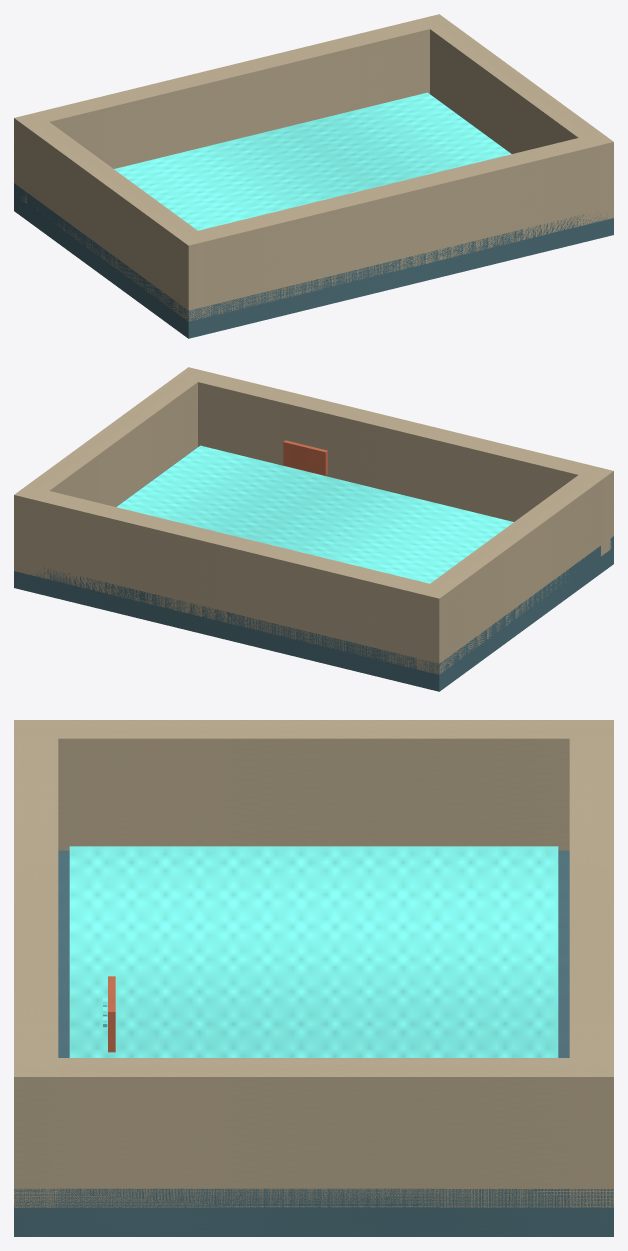
The model's file is atlas100-s042-a01.glb.
The picture shows the model from 3 angles, top to bottom: view 1: azimuth 30°, elevation 25°; view 2: azimuth 150°, elevation 25°; view 3: azimuth 270°, elevation 25°; orthographic projection. The views are drawn at different scales.
Parts seen in each view (by area): view 1: atlas100-s042-a01:part-005, atlas100-s042-a01:part-004, atlas100-s042-a01:part-001, atlas100-s042-a01:part-002, atlas100-s042-a01:part-000, atlas100-s042-a01:part-003; view 2: atlas100-s042-a01:part-004, atlas100-s042-a01:part-005, atlas100-s042-a01:part-001, atlas100-s042-a01:part-002, atlas100-s042-a01:part-000, atlas100-s042-a01:part-003, atlas100-s042-a01:part-006; view 3: atlas100-s042-a01:part-001, atlas100-s042-a01:part-003, atlas100-s042-a01:part-002, atlas100-s042-a01:part-000, atlas100-s042-a01:part-004, atlas100-s042-a01:part-005.
Part boxes in pixels (x1,y1,x2,y2): atlas100-s042-a01:part-005: [175, 132, 613, 320]; atlas100-s042-a01:part-004: [14, 14, 450, 203]; atlas100-s042-a01:part-001: [114, 92, 511, 230]; atlas100-s042-a01:part-002: [14, 112, 210, 321]; atlas100-s042-a01:part-000: [14, 94, 613, 338]; atlas100-s042-a01:part-003: [418, 14, 613, 220]; atlas100-s042-a01:part-004: [14, 485, 452, 673]; atlas100-s042-a01:part-005: [176, 367, 613, 556]; atlas100-s042-a01:part-001: [116, 445, 513, 583]; atlas100-s042-a01:part-002: [417, 465, 613, 674]; atlas100-s042-a01:part-000: [14, 447, 613, 691]; atlas100-s042-a01:part-003: [14, 367, 210, 576]; atlas100-s042-a01:part-006: [283, 440, 327, 475]; atlas100-s042-a01:part-001: [69, 846, 558, 1057]; atlas100-s042-a01:part-003: [14, 1058, 613, 1207]; atlas100-s042-a01:part-002: [14, 720, 613, 850]; atlas100-s042-a01:part-000: [14, 850, 613, 1236]; atlas100-s042-a01:part-004: [569, 720, 613, 1207]; atlas100-s042-a01:part-005: [14, 720, 58, 1207].
Bounding box in the file's own units: 3.8 × 0.795 × 2.7.
4 materials, 4 textured.
